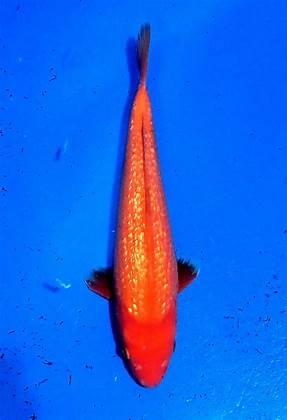red: (86, 23, 198, 387)
